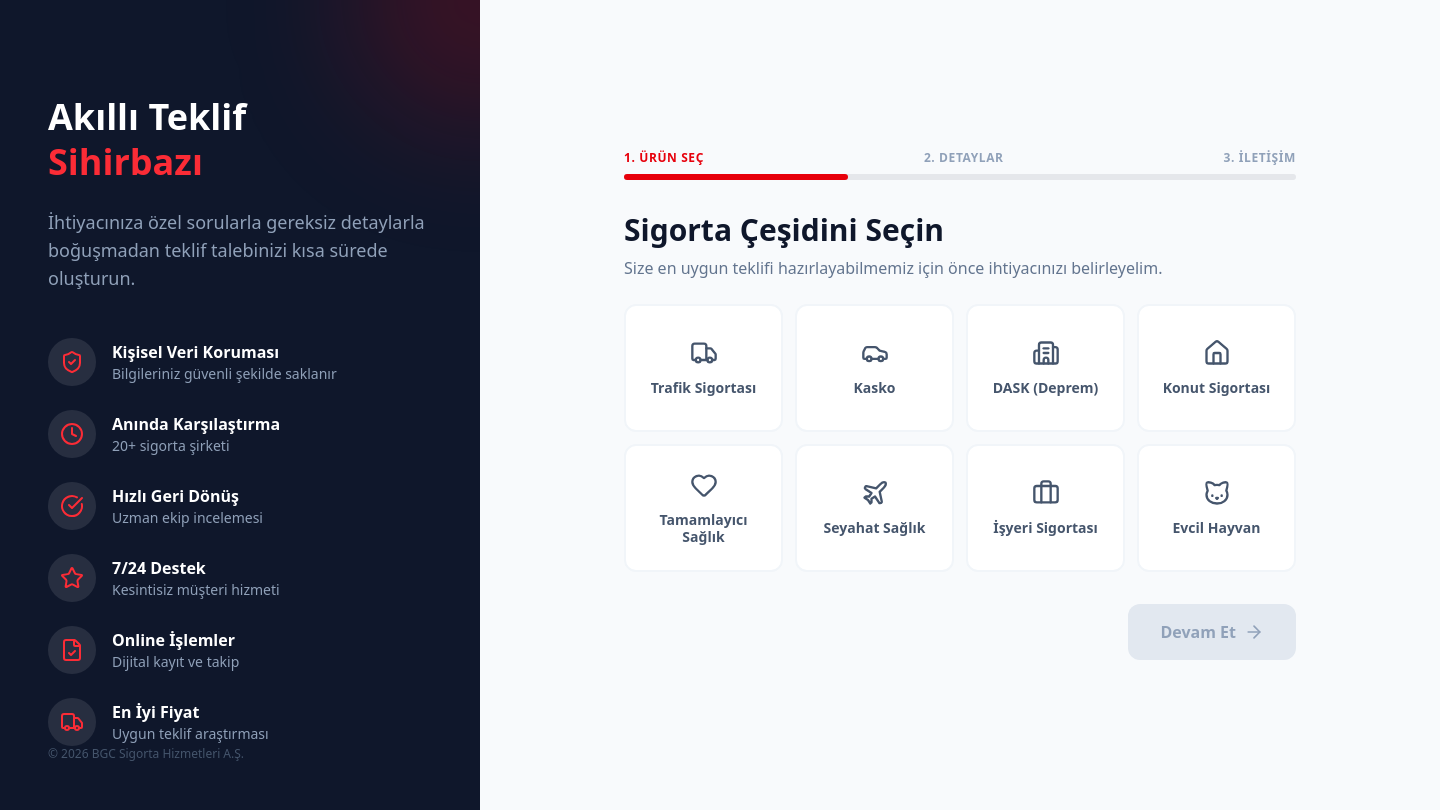
Test: TeklifAlPage › requires travel-specific health fields before moving to contact step
This screenshot has width=1440, height=810.
Click the button "Seyahat Sağlık".
click(874, 508)  # box [795,444,954,572]
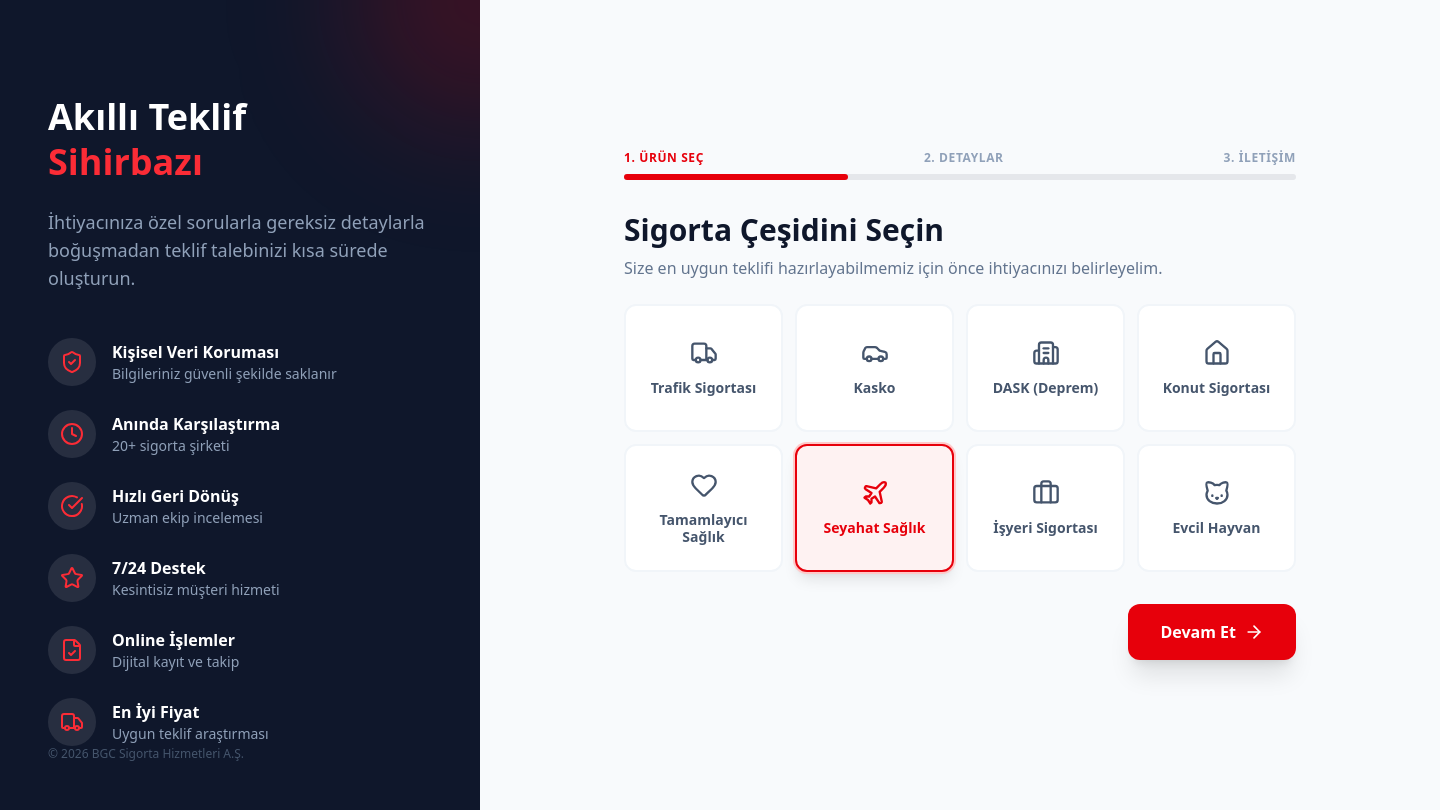
Click the button "Devam Et".
click(1212, 632)  # box [1128,604,1296,660]
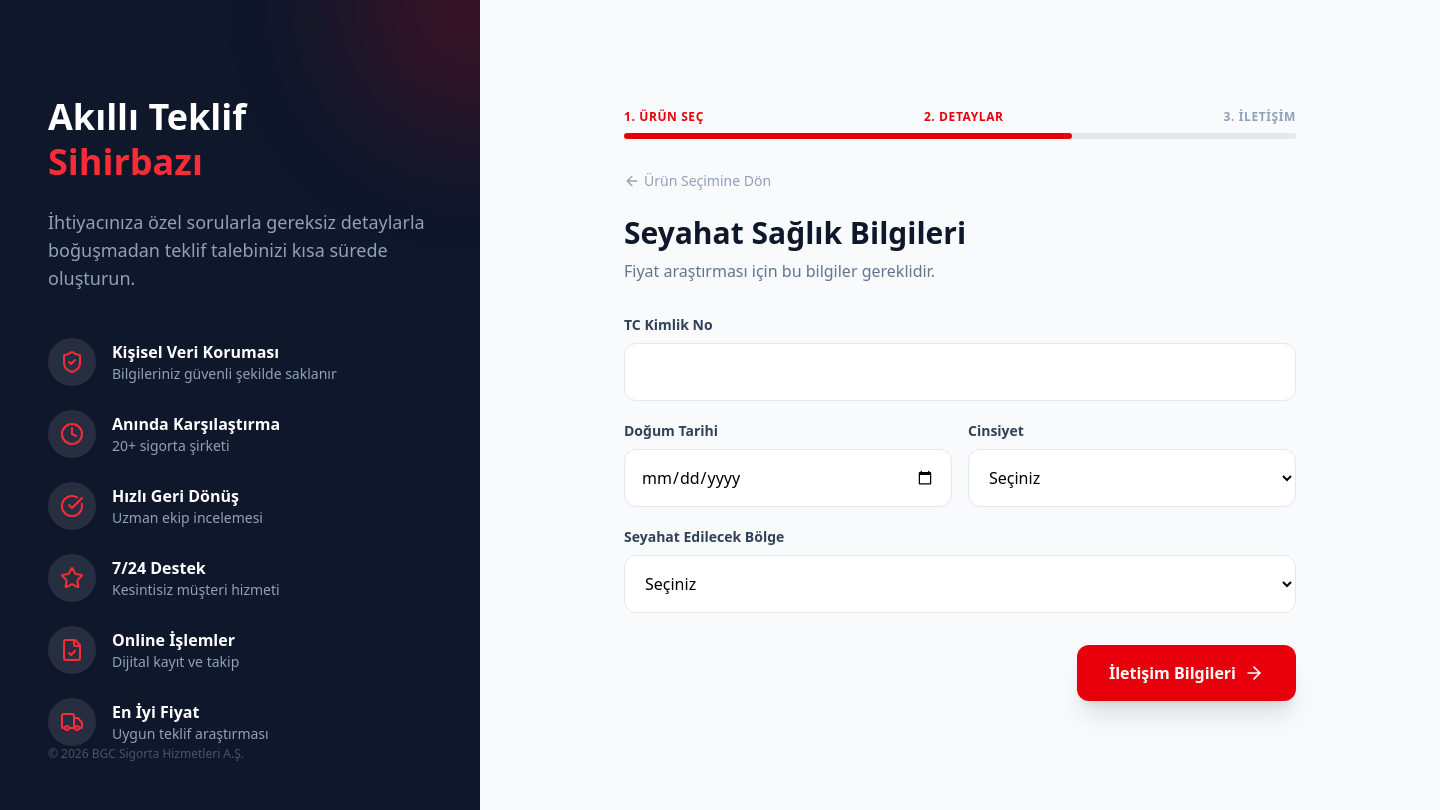
Now the heading "Seyahat Sağlık Bilgileri" is shown, box [624,212,966,253]
Click the button "İletişim Bilgileri".
click(1186, 673)  # box [1077,645,1296,701]
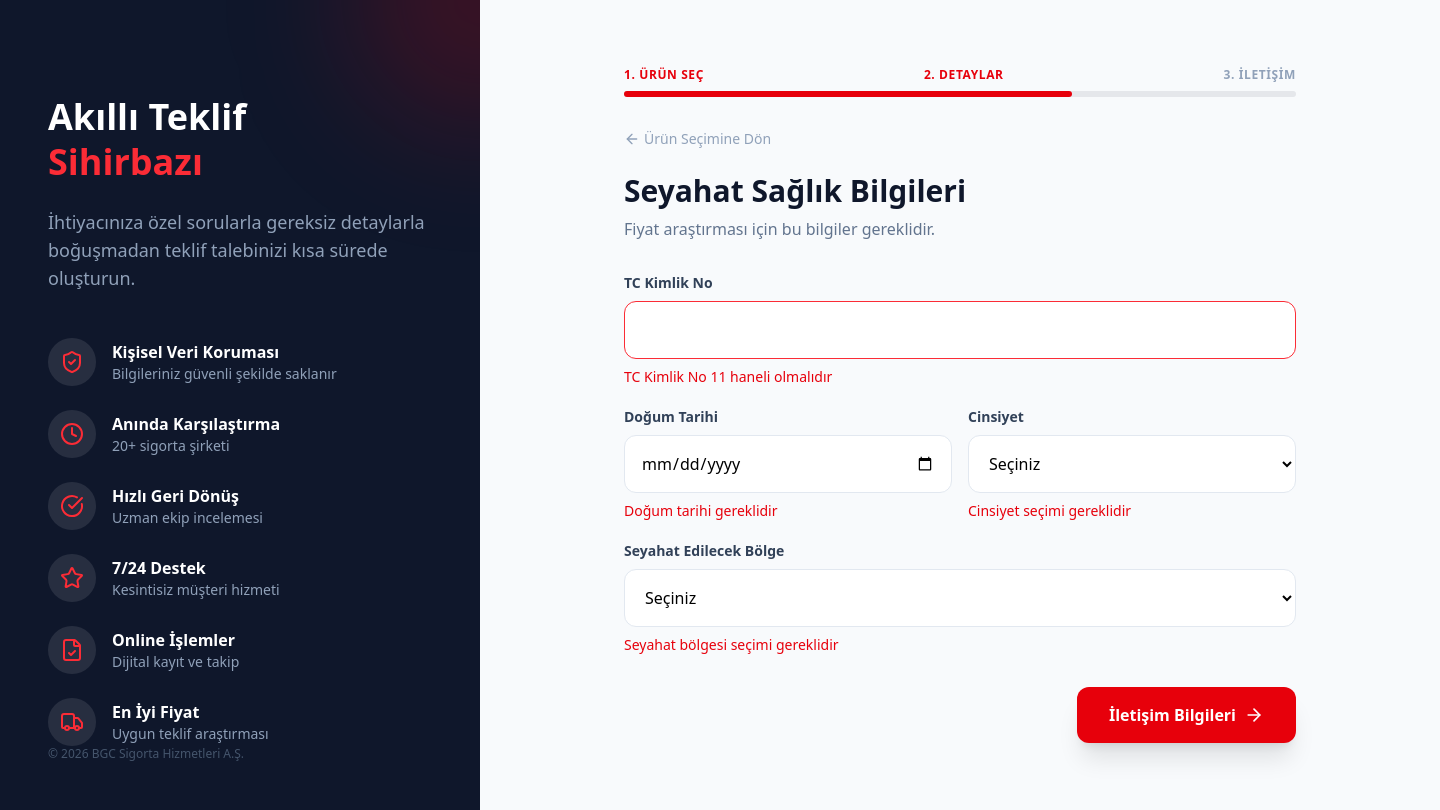
Now the text "TC Kimlik No 11 haneli olmalıdır" is shown, box [624,367,832,386]
Now the text "Doğum tarihi gereklidir" is shown, box [624,501,778,520]
Now the text "Cinsiyet seçimi gereklidir" is shown, box [968,501,1131,520]
